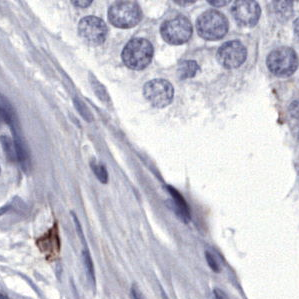Lymphocyte: (36, 222, 62, 261)
